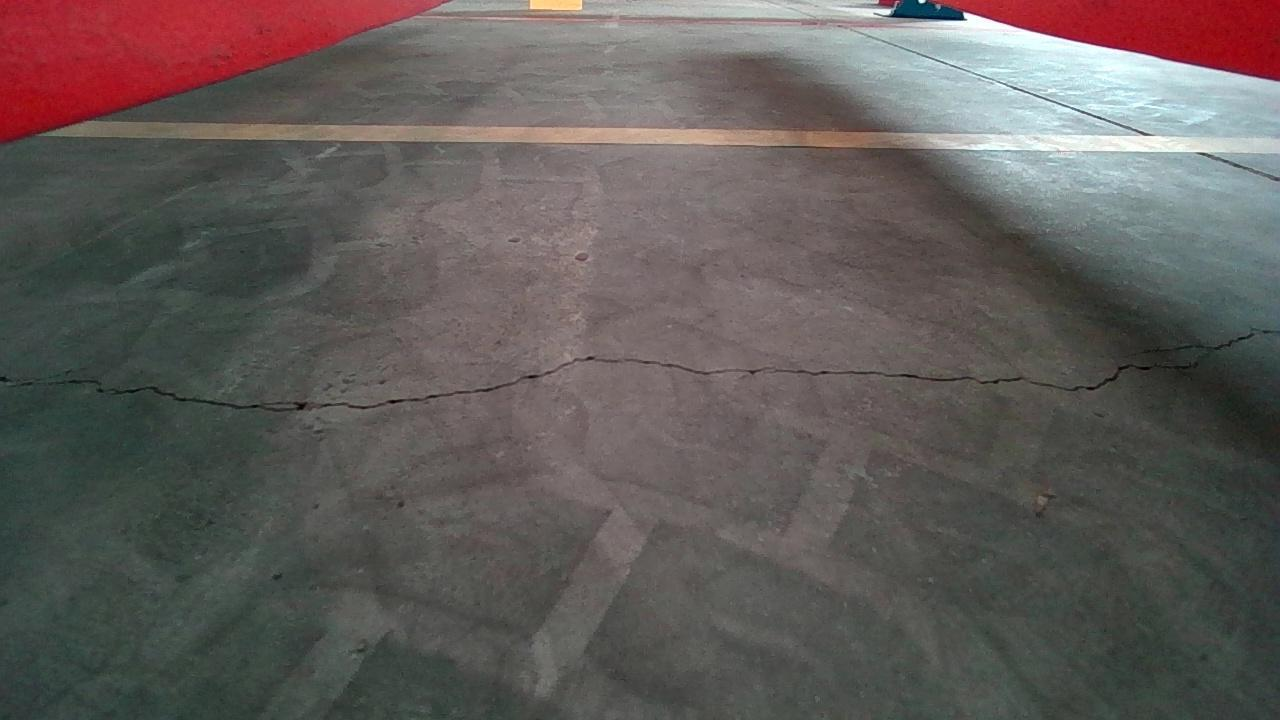orange_strip: (527, 0, 583, 10)
yellow_line: (38, 115, 1280, 154)
